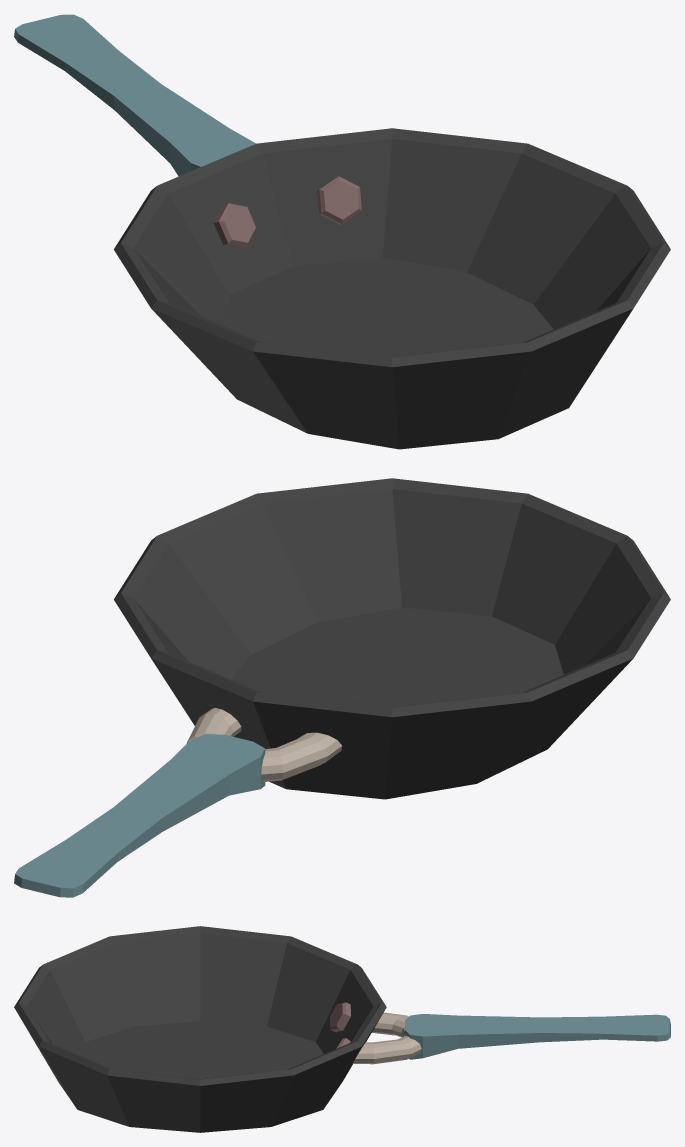
Rendered from bilun-frying pan.fbx.
The picture shows the model from 3 angles, top to bottom: view 1: azimuth 30°, elevation 25°; view 2: azimuth 150°, elevation 25°; view 3: azimuth 270°, elevation 25°; orthographic projection. The views are drawn at different scales.
Visible parts, largest first — view 1: Cylinder, Cube, Circle; view 2: Cylinder, Cube, Cylinder.001; view 3: Cylinder, Cube, Cylinder.001, Circle.
Boxes of the visible parts, bbox=[...] form: Cylinder: bbox=[114, 128, 670, 449]; Cube: bbox=[14, 14, 255, 176]; Circle: bbox=[213, 176, 361, 248]; Cylinder: bbox=[114, 478, 670, 799]; Cube: bbox=[14, 734, 265, 897]; Cylinder.001: bbox=[186, 707, 342, 781]; Cylinder: bbox=[14, 926, 386, 1132]; Cube: bbox=[405, 1014, 670, 1059]; Cylinder.001: bbox=[352, 1012, 421, 1064]; Circle: bbox=[329, 1002, 350, 1048].
Size of the model in its own units: 51.54 by 12.1 by 90.83.
